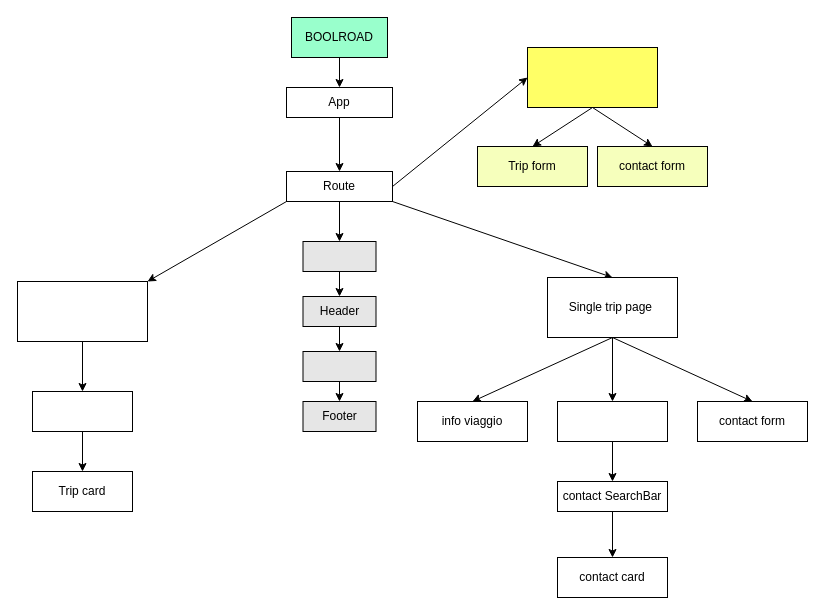
Image size: 825x615. Some labels were removed from this diagram. Each missing label, with the box of its shape:
contact list: (556, 400, 668, 442)
Layout: (302, 240, 376, 272)
New Trip page: (526, 46, 658, 108)
Outlet: (302, 350, 376, 382)
Trip list: (32, 390, 132, 432)
Trip page (HOME): (16, 280, 148, 342)
